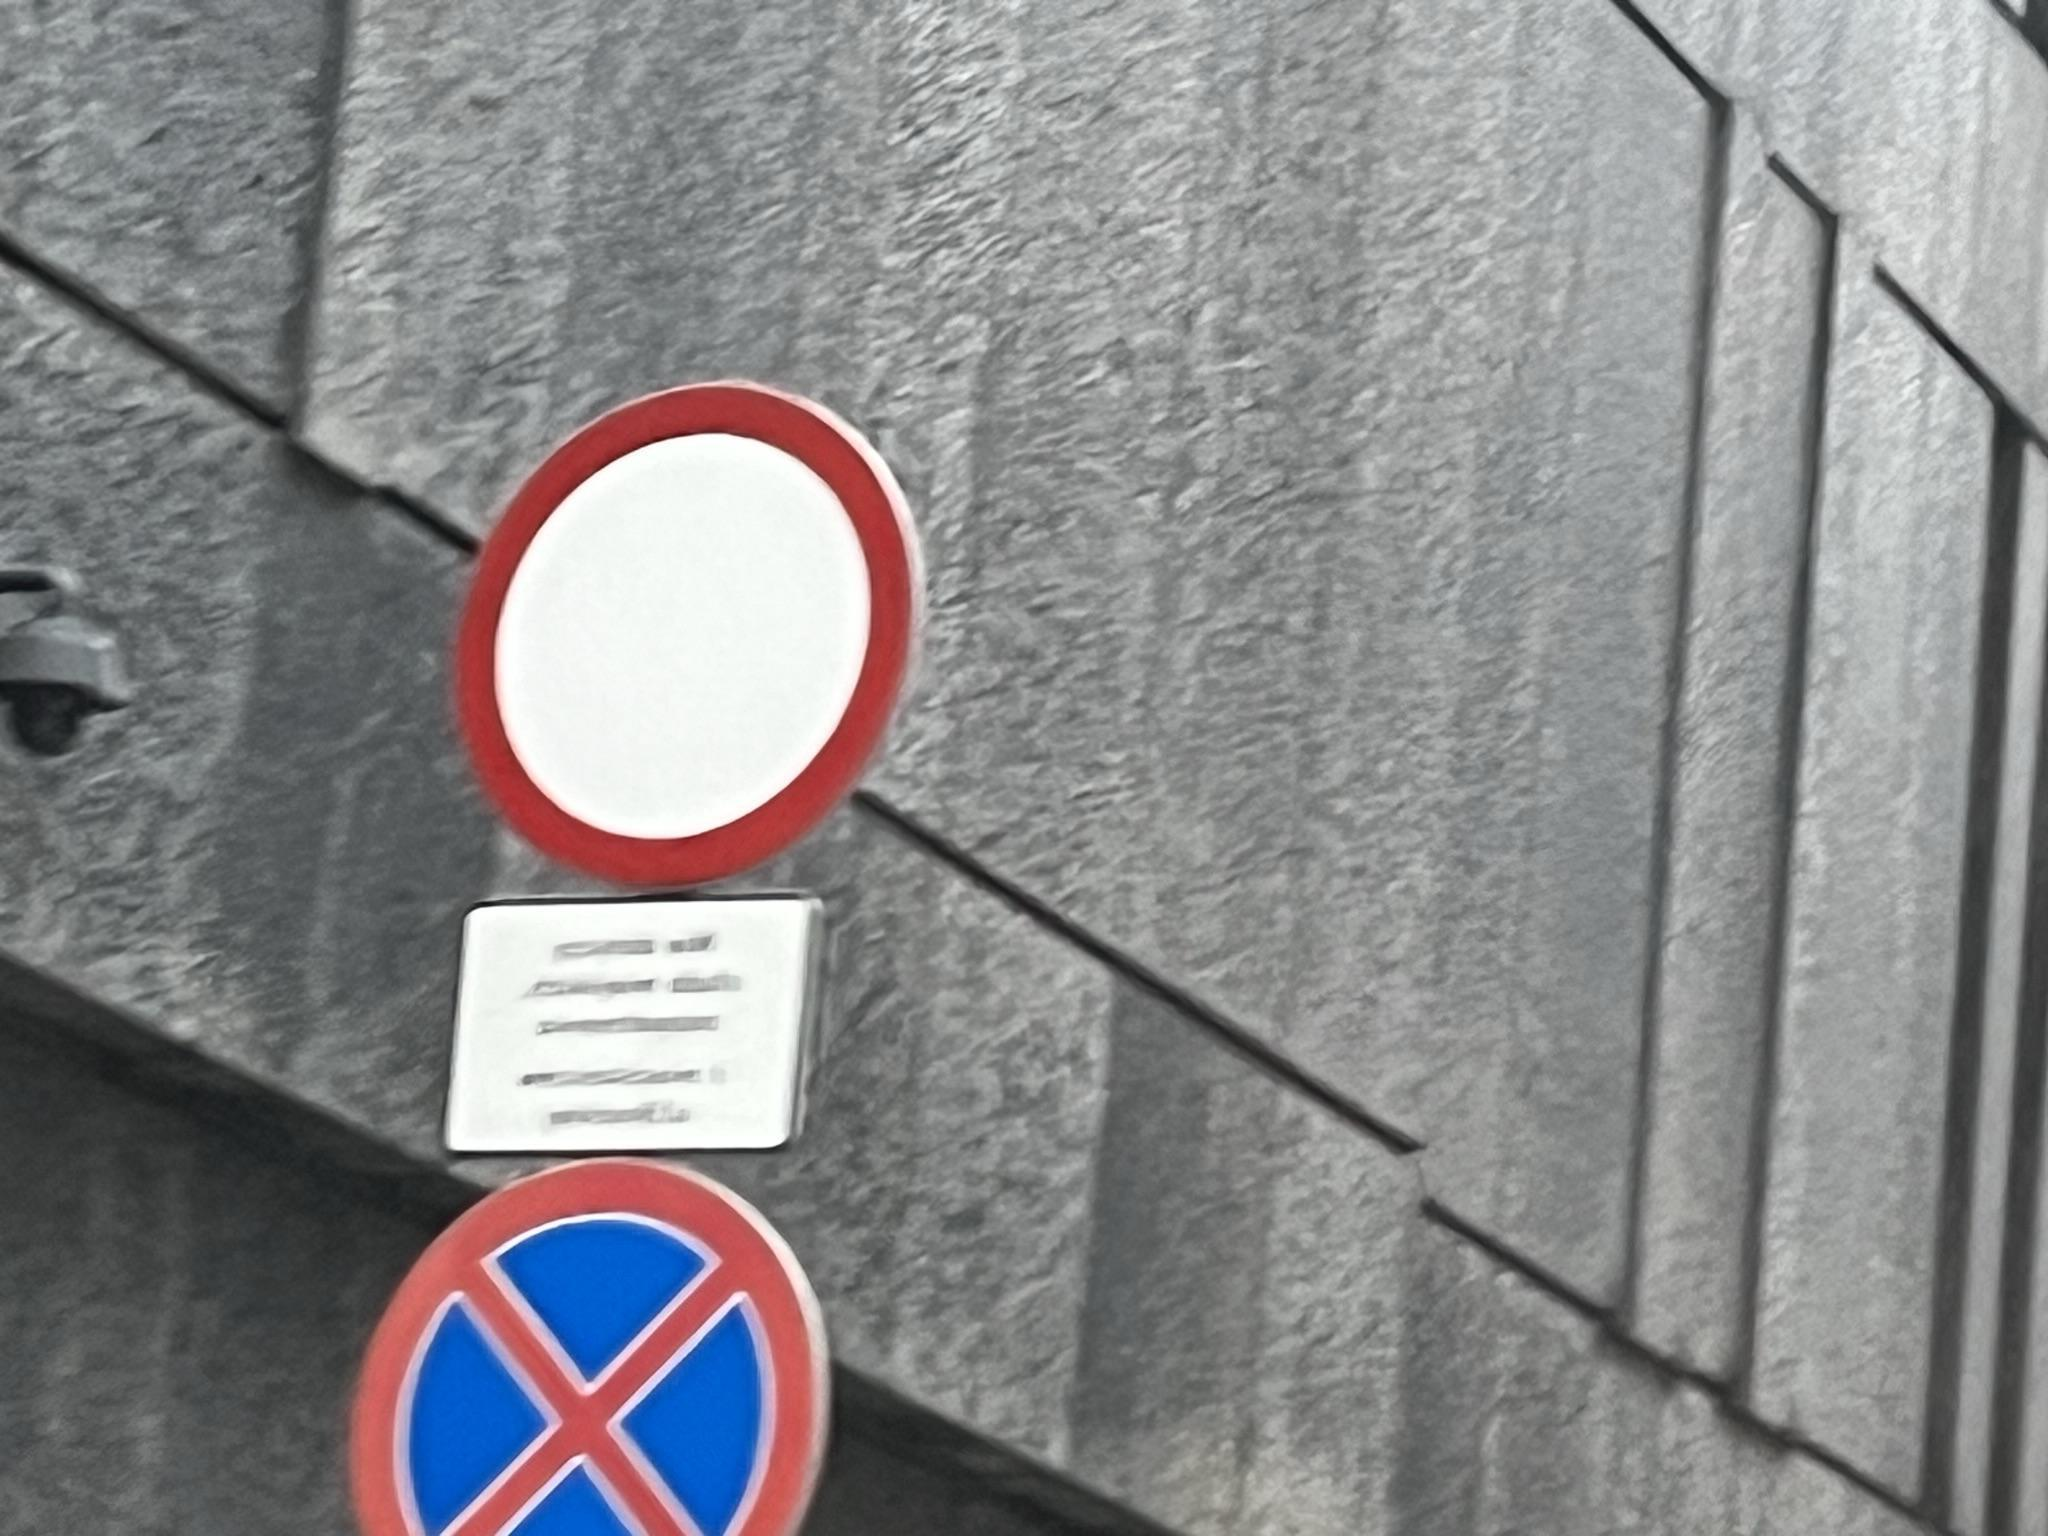other: (439, 891, 830, 1160)
prohibitory: (455, 376, 926, 891), (343, 1155, 832, 1536)
